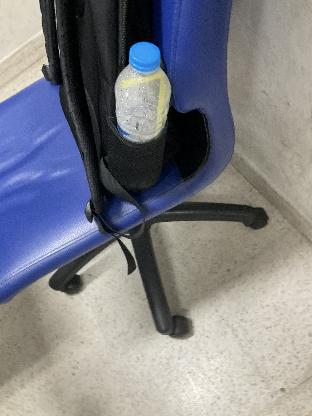Plastic Bottle: (114, 39, 174, 147)
